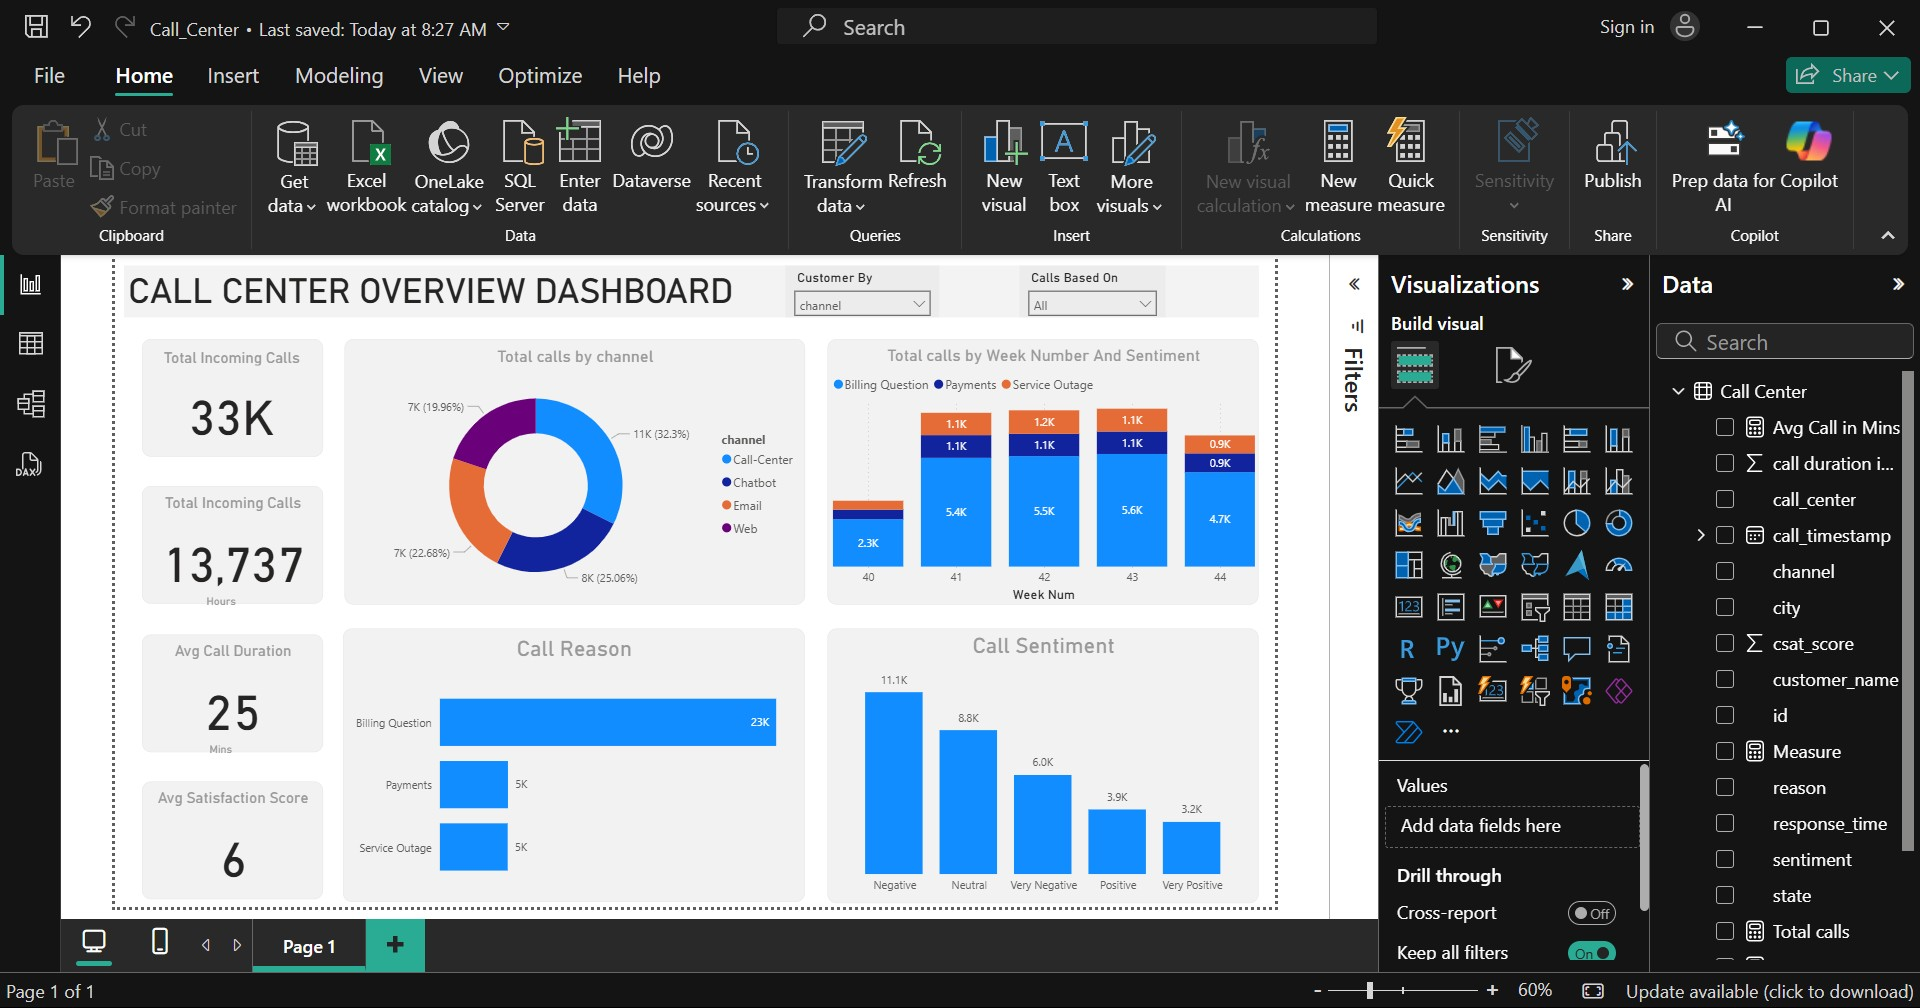

This screenshot's page, from the dashboard's own definition file:
{"tool":"powerbi","page":{"name":"Page 1","canvas":[1280,720],"ordinal":0},"visuals":[{"type":"textbox","box":[9.8,11.2,1253.3,57.6],"z":0},{"type":"card","title":"Total Incoming Calls","fields":{"Values":["Call Center.Total calls"]},"box":[29.5,92.7,200,130],"z":1000},{"type":"card","title":"Total Incoming Calls","fields":{"Values":["Call Center.Total Duration in hours"]},"box":[29.5,255.7,200,130],"z":2000},{"type":"card","title":"Avg  Call Duration","fields":{"Values":["Call Center.Avg Call in Mins"]},"box":[29.5,418.7,200,130],"z":3000},{"type":"card","title":"Avg Satisfaction Score","fields":{"Values":["Call Center.Measure"]},"box":[29.5,581.7,200,130],"z":4000},{"type":"textbox","box":[95.5,365.3,57.6,40.7],"z":5000},{"type":"textbox","box":[99.8,529.7,53.4,33.7],"z":6000},{"type":"clusteredBarChart","title":"Call Reason","fields":{"Category":["Call Center.reason"],"Y":["Call Center.Total calls"]},"box":[251.5,411.7,510,302.1],"z":7000},{"type":"clusteredColumnChart","title":"Call Sentiment ","fields":{"Y":["Call Center.Total calls"],"Category":["Call Center.sentiment"]},"box":[786.8,411.7,476.3,303.5],"z":8000},{"type":"slicer","fields":{"Values":["Customer By.Customer By"]},"box":[740.5,11.2,170,57.6],"z":9000},{"type":"donutChart","fields":{"Category":["Call Center.channel"],"Y":["Call Center.Total calls"]},"box":[253.4,92.8,508.5,293.2],"z":10000},{"type":"columnChart","title":"Total calls by Week Number And Sentiment","fields":{"Series":["Call Center.reason"],"Category":["Call Center.Week Num"],"Y":["Call Center.Total calls"]},"box":[786.8,92.7,476.3,293.7],"z":11000},{"type":"slicer","fields":{"Values":["Calls Based On.Calls Based On"]},"box":[999,11.2,161.6,57.6],"z":12000}]}

Visuals, with their boxes on the page's 1280x720 design canvas (x1, y1, x2, y2). These are canvas units, not pixel positions in the 1920x1008 screenshot, which may show the page scaled, cropped or inside an application window:
textbox: detection(10, 11, 1263, 69)
"Total Incoming Calls" card: detection(30, 93, 230, 223)
"Total Incoming Calls" card: detection(30, 256, 230, 386)
"Avg  Call Duration" card: detection(30, 419, 230, 549)
"Avg Satisfaction Score" card: detection(30, 582, 230, 712)
textbox: detection(96, 365, 153, 406)
textbox: detection(100, 530, 153, 563)
"Call Reason" clusteredBarChart: detection(252, 412, 762, 714)
"Call Sentiment " clusteredColumnChart: detection(787, 412, 1263, 715)
slicer - Customer By.Customer By: detection(740, 11, 910, 69)
donutChart - Call Center.channel x Call Center.Total calls: detection(253, 93, 762, 386)
"Total calls by Week Number And Sentiment" columnChart: detection(787, 93, 1263, 386)
slicer - Calls Based On.Calls Based On: detection(999, 11, 1161, 69)
